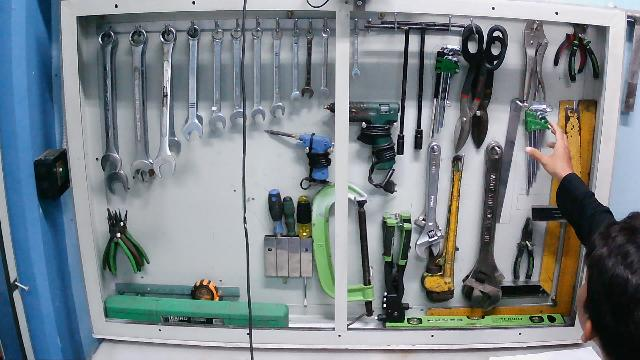kunci_l_bintang: (523, 101, 554, 196)
